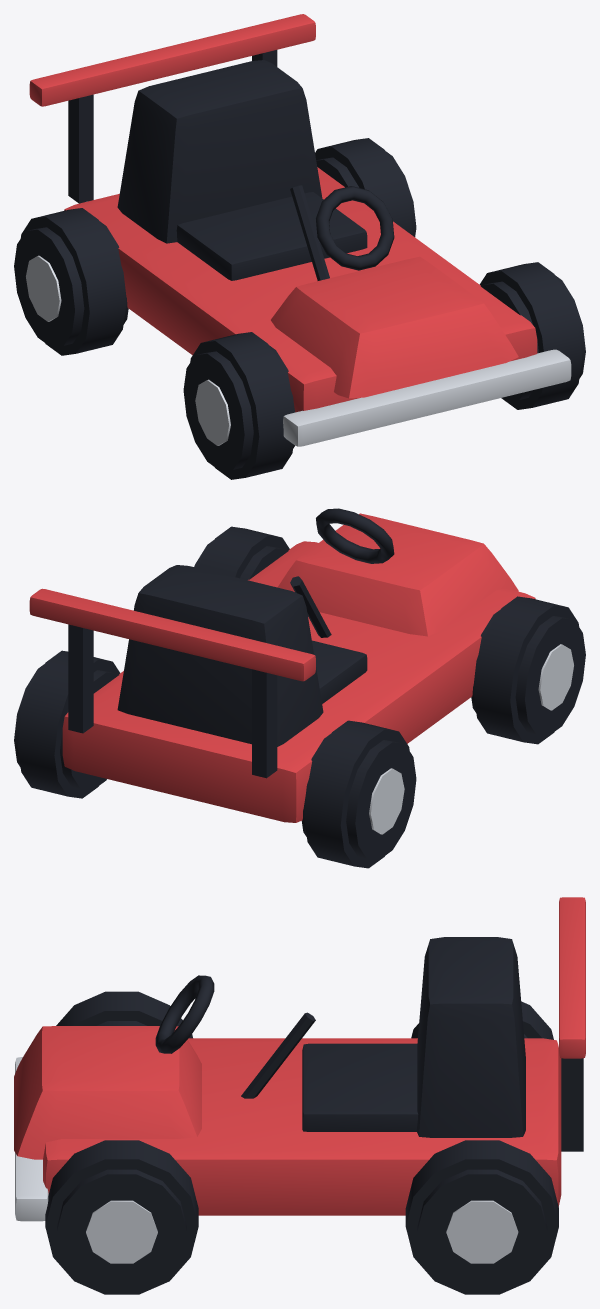
Rendered from kart.glb.
3 renders of one model, top to bottom at view 1: azimuth 30°, elevation 25°; view 2: azimuth 150°, elevation 25°; view 3: azimuth 270°, elevation 25°, orthographic. The views are drawn at different scales.
Visible parts, largest first — view 1: kart; view 2: kart; view 3: kart.
Boxes of the visible parts, bbox=[...] form: kart: bbox=[14, 14, 585, 479]; kart: bbox=[14, 508, 585, 868]; kart: bbox=[14, 897, 585, 1294].
Size of the model in its own units: 1.88 by 1.19 by 2.54.
